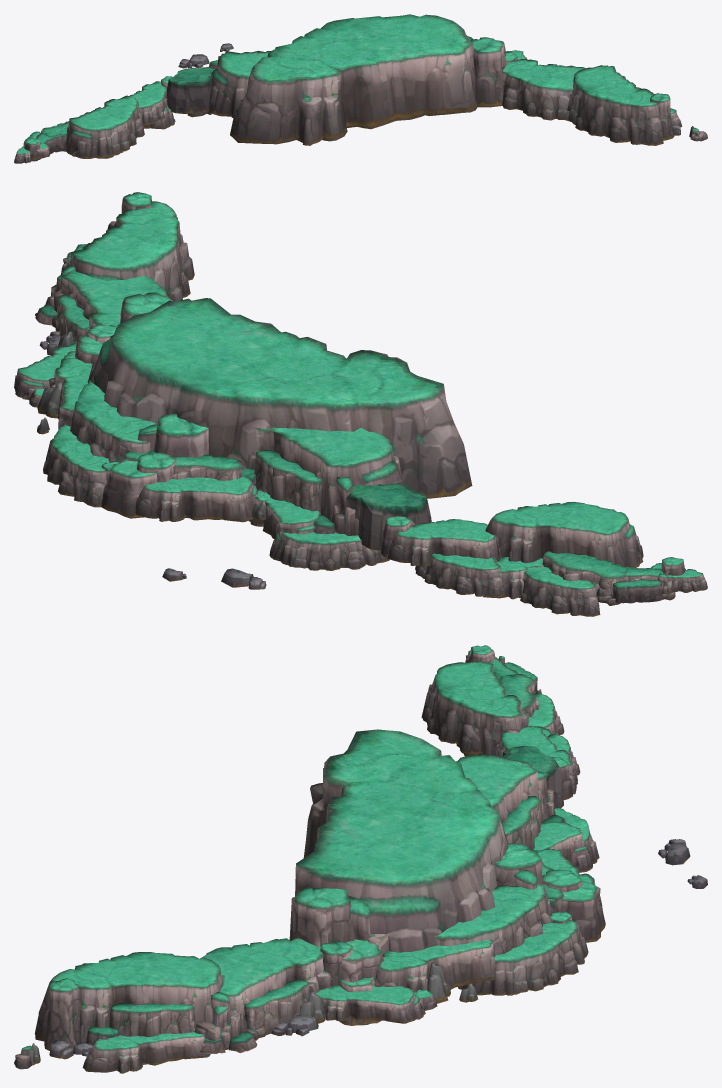
Rendered from yanshi3.fbx.
3 renders of one model, top to bottom at view 1: azimuth 30°, elevation 25°; view 2: azimuth 150°, elevation 25°; view 3: azimuth 270°, elevation 25°, orthographic. The views are drawn at different scales.
Visible parts, largest first — view 1: yanshi3; view 2: yanshi3; view 3: yanshi3.
Boxes of the visible parts, x1,y1,x2,y2 form: yanshi3: (14,14,707,163); yanshi3: (14,192,707,616); yanshi3: (14,645,707,1073).
Bounding box in the file's own units: 15339 × 1918 × 10930.
